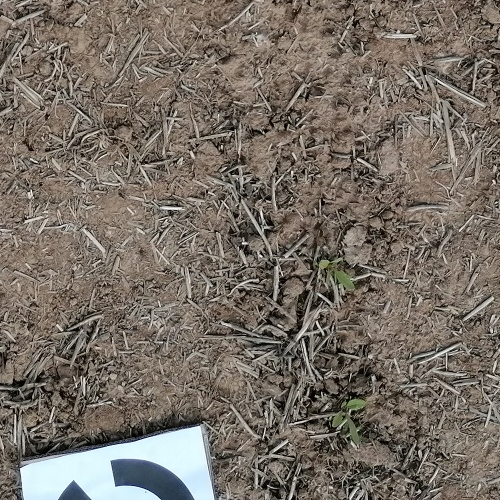beet: (332, 399, 365, 447), (320, 259, 355, 290)
